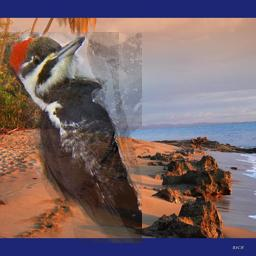Woodpecker: (3, 32, 142, 243)
